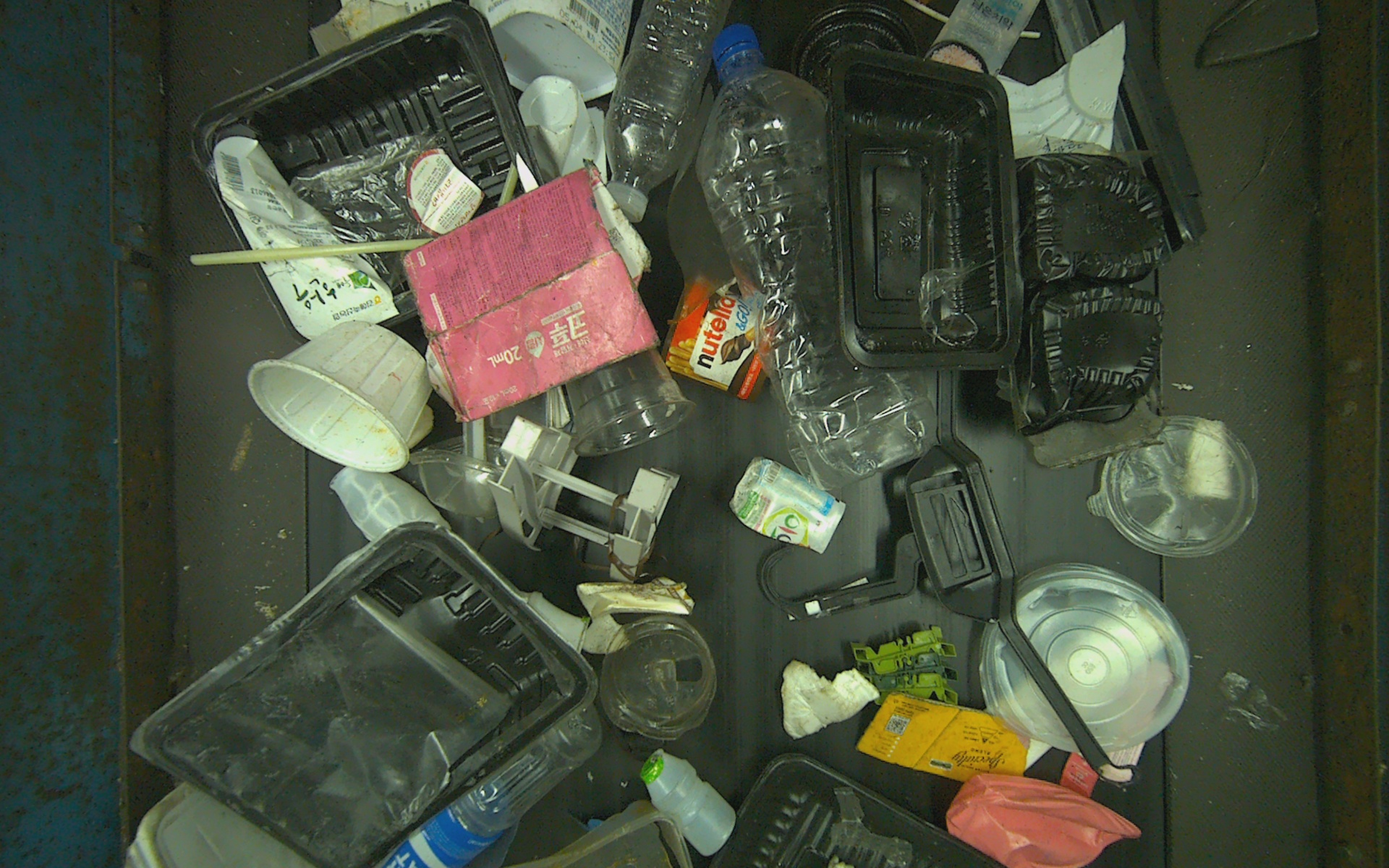PET: (696, 26, 938, 489), (603, 1, 732, 222)
PP-B: (827, 50, 1024, 369), (1013, 153, 1164, 435)
PS-W: (247, 321, 432, 472), (641, 750, 736, 855), (329, 466, 452, 541)
